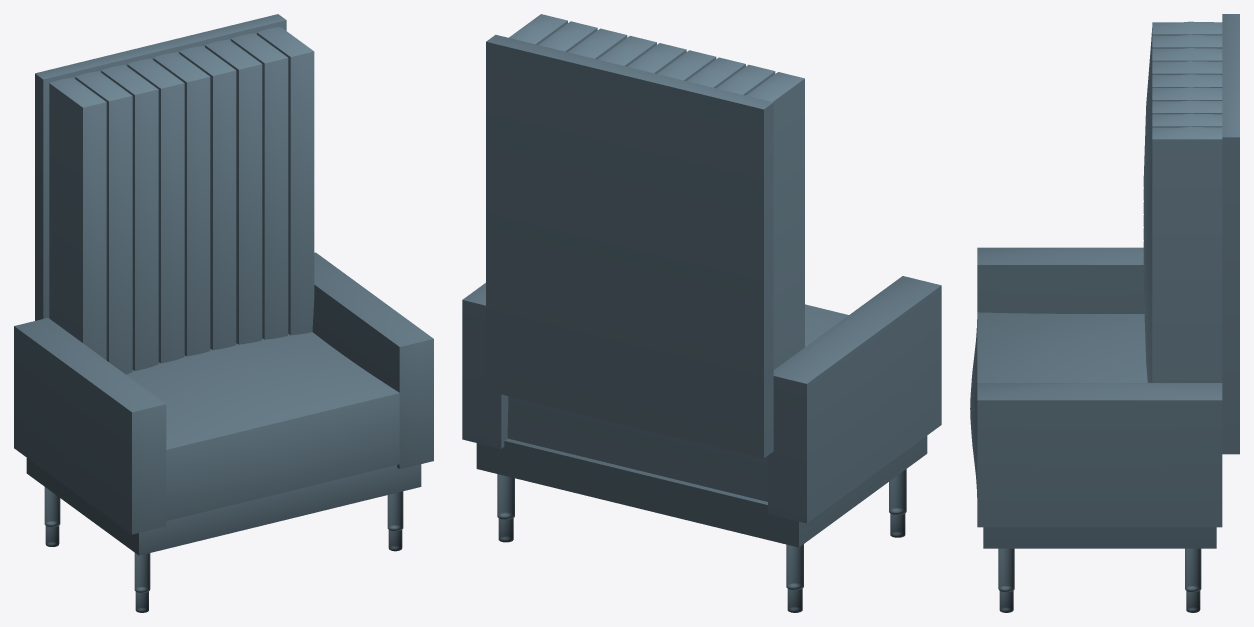
File: sofa_lod0.glb
3 views of the same model, side by side, from view 1: azimuth 30°, elevation 25°; view 2: azimuth 150°, elevation 25°; view 3: azimuth 270°, elevation 25° (orthographic). The views are drawn at different scales.
Parts seen in each view (by area): view 1: BoutiqueSofa_LOD0; view 2: BoutiqueSofa_LOD0; view 3: BoutiqueSofa_LOD0.
Part boxes in pixels (bbox=[...]): BoutiqueSofa_LOD0: bbox=[14, 14, 433, 612]; BoutiqueSofa_LOD0: bbox=[462, 14, 941, 612]; BoutiqueSofa_LOD0: bbox=[970, 14, 1239, 612].
Bounding box in the file's own units: 1.28 × 1.78 × 0.925.
